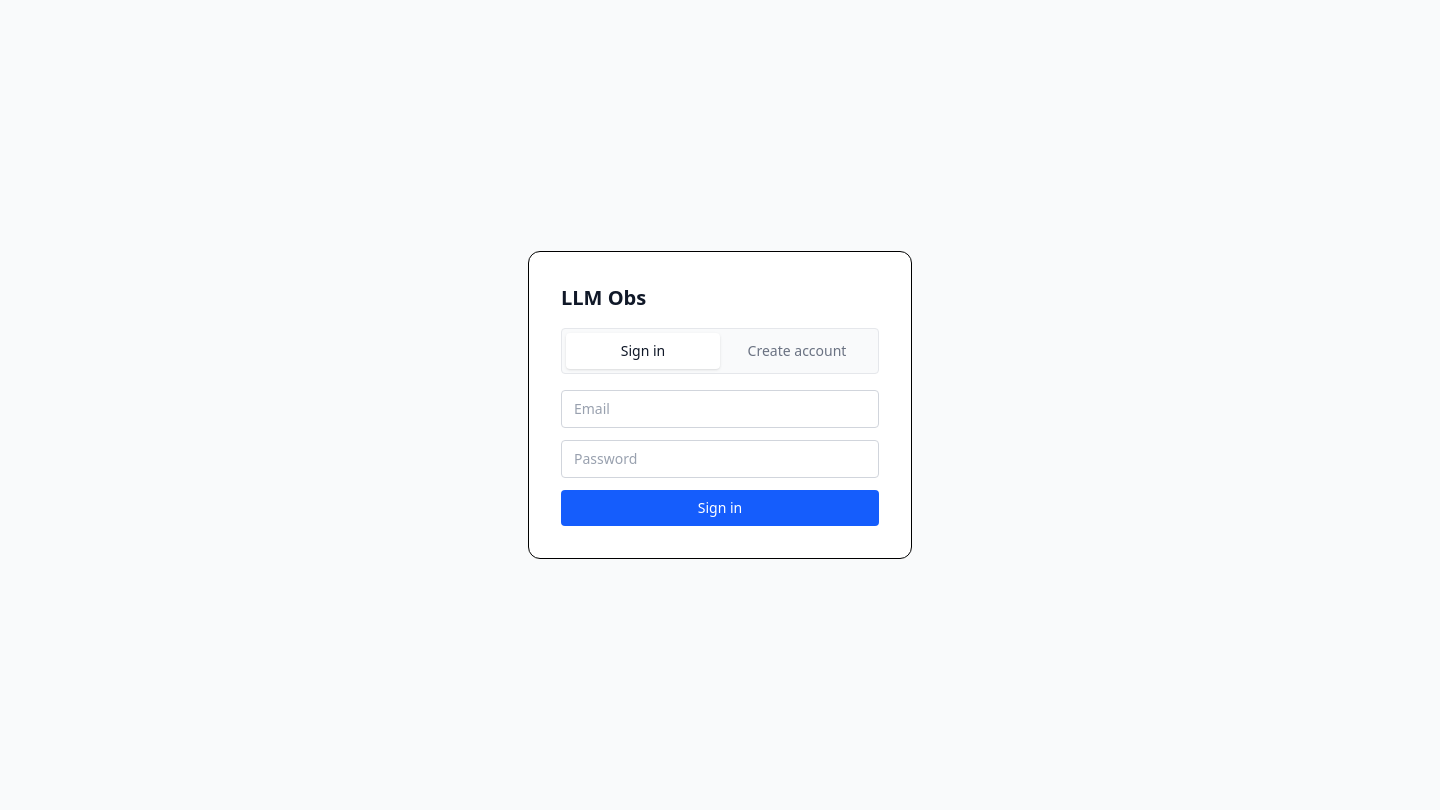
Test: App › registers a new account and shows the one-time api key
Click the button "Create account": (797, 351) [720, 333, 874, 369]
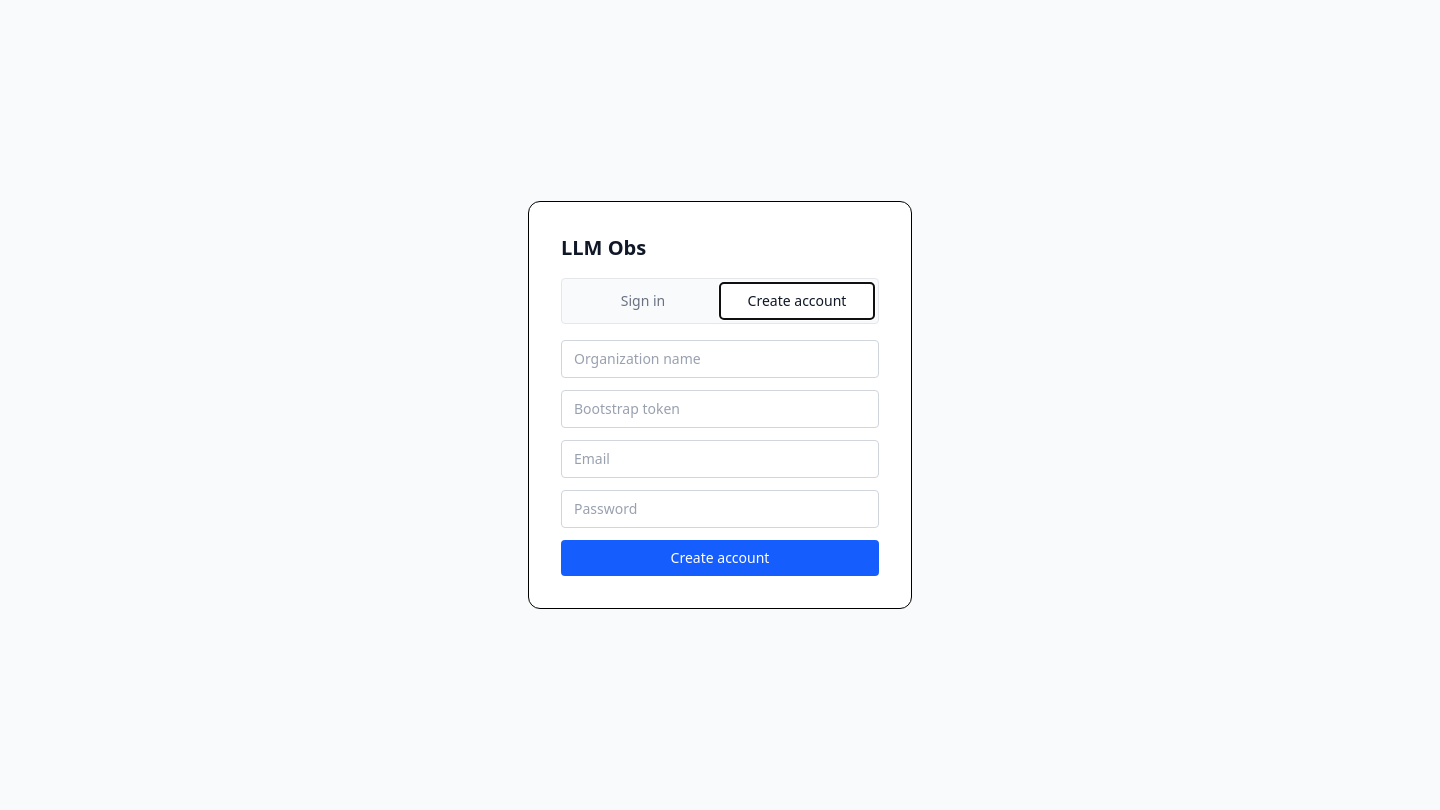
In the field with placeholder "Organization name": (720, 359) [561, 340, 879, 378], type "Demo Org"
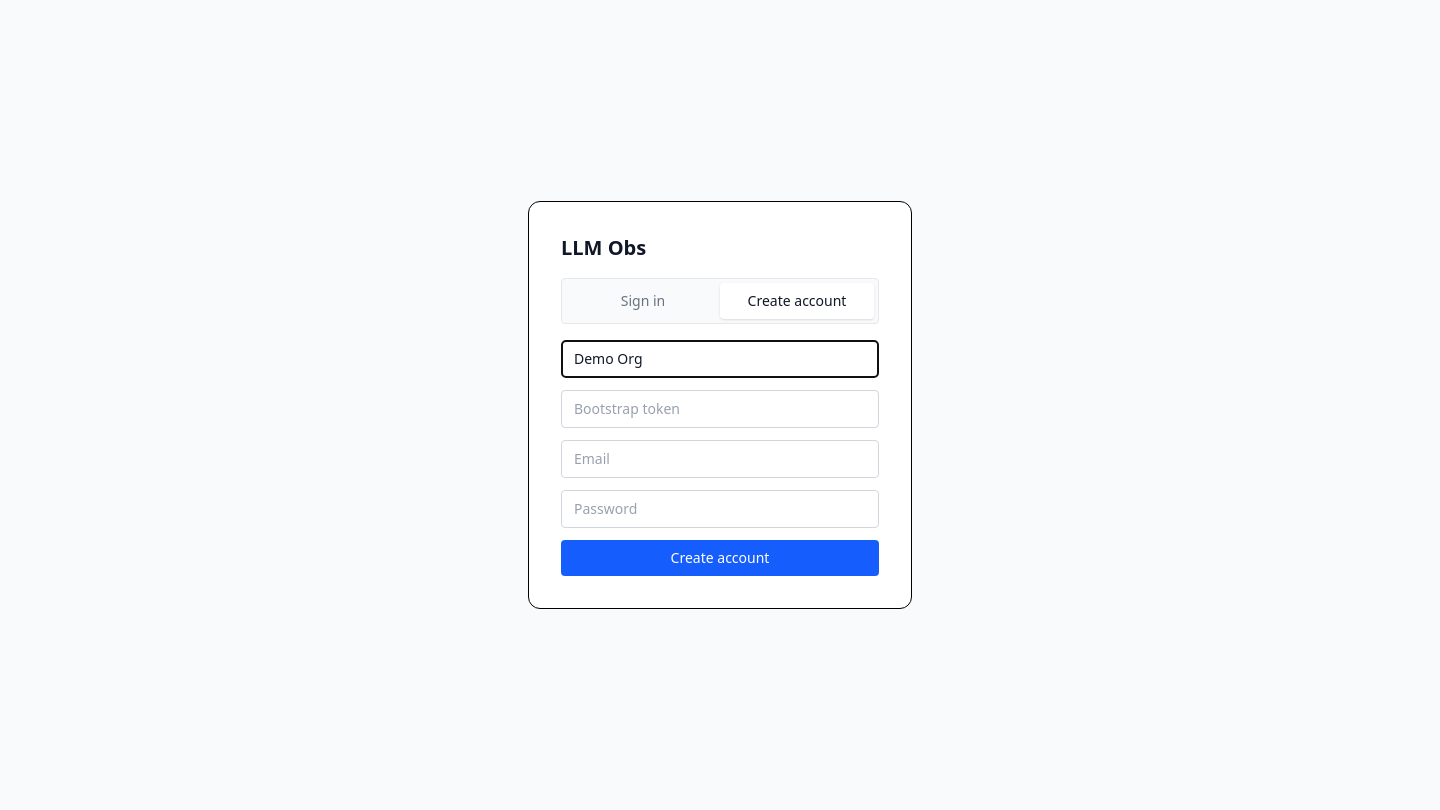
In the field with placeholder "Email": (720, 459) [561, 440, 879, 478], type "admin@example.com"
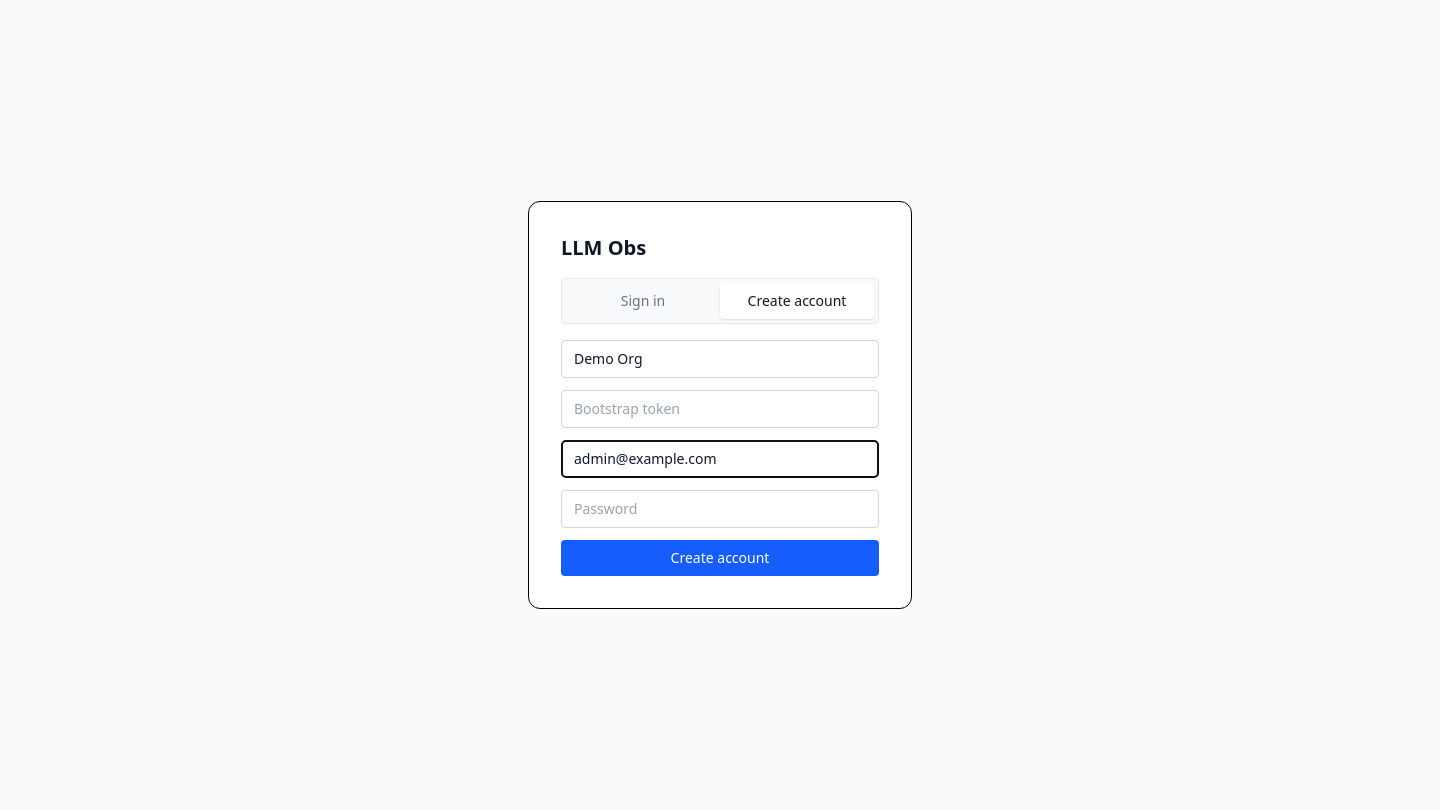
In the password field with placeholder "Password": (720, 509) [561, 490, 879, 528], type "secret123"
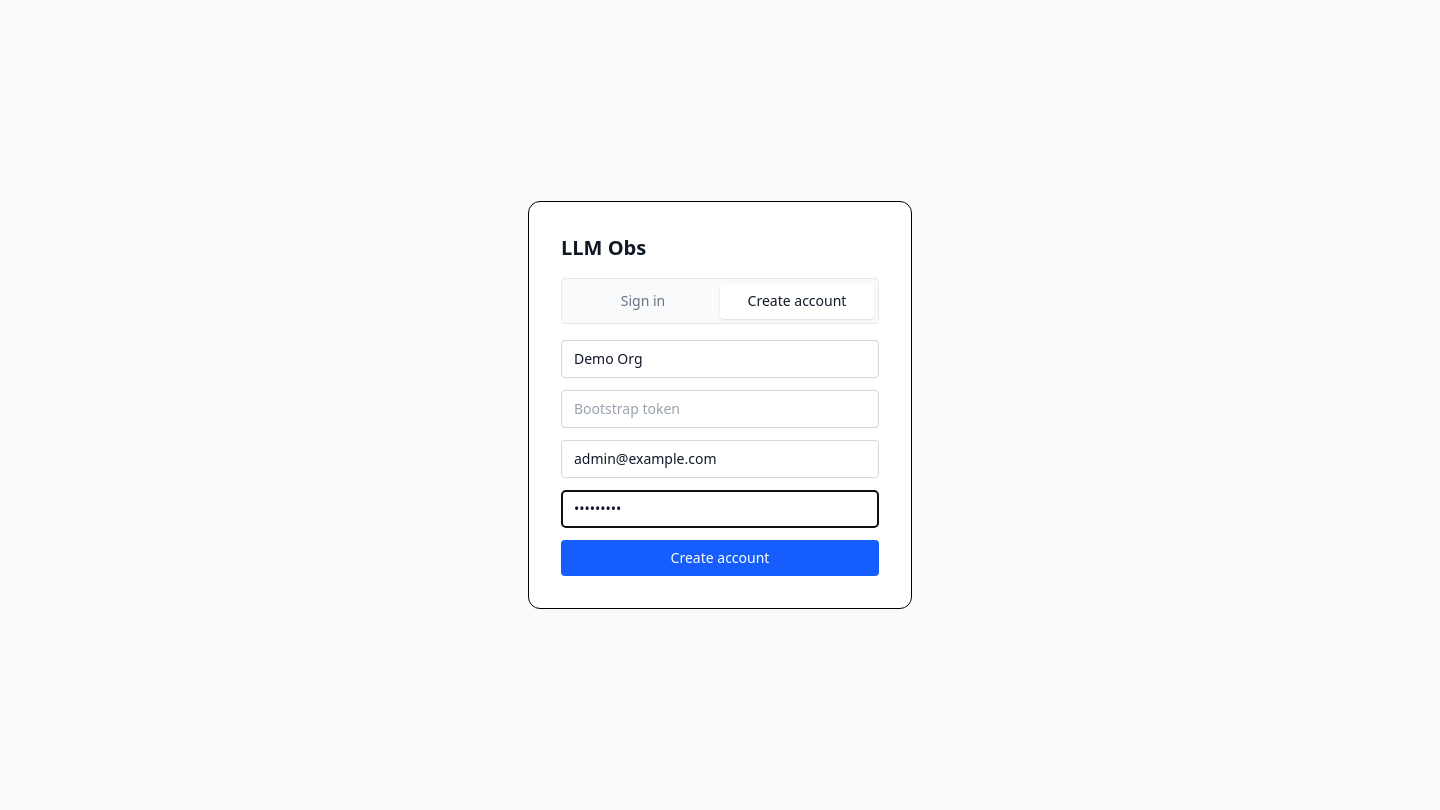
Click the 2nd button "Create account": (720, 558) [561, 540, 879, 576]
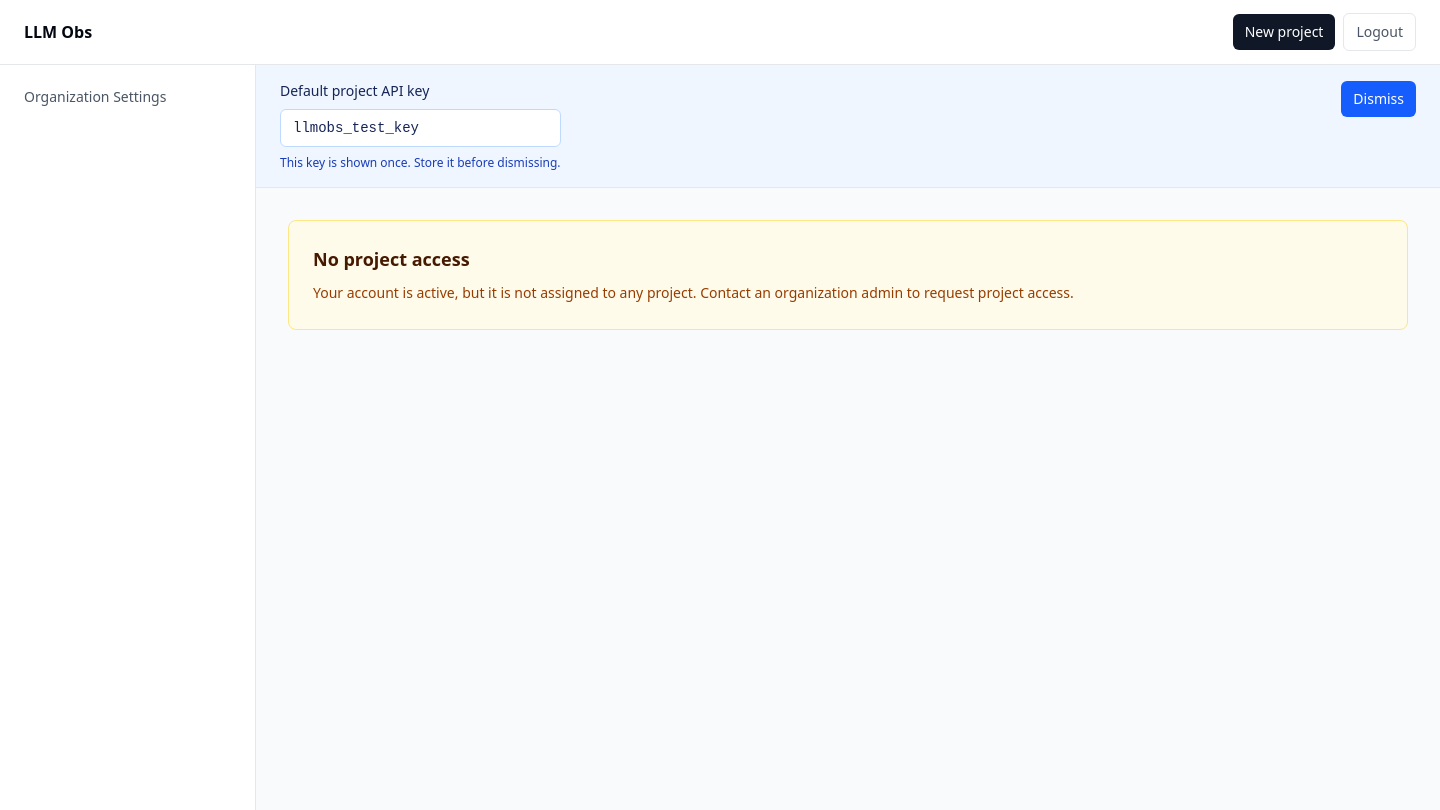
Expected: the text "Default project API key" is shown, [280, 81, 429, 100]
Expected: the text "llmobs_test_key" is shown, [280, 109, 560, 147]
